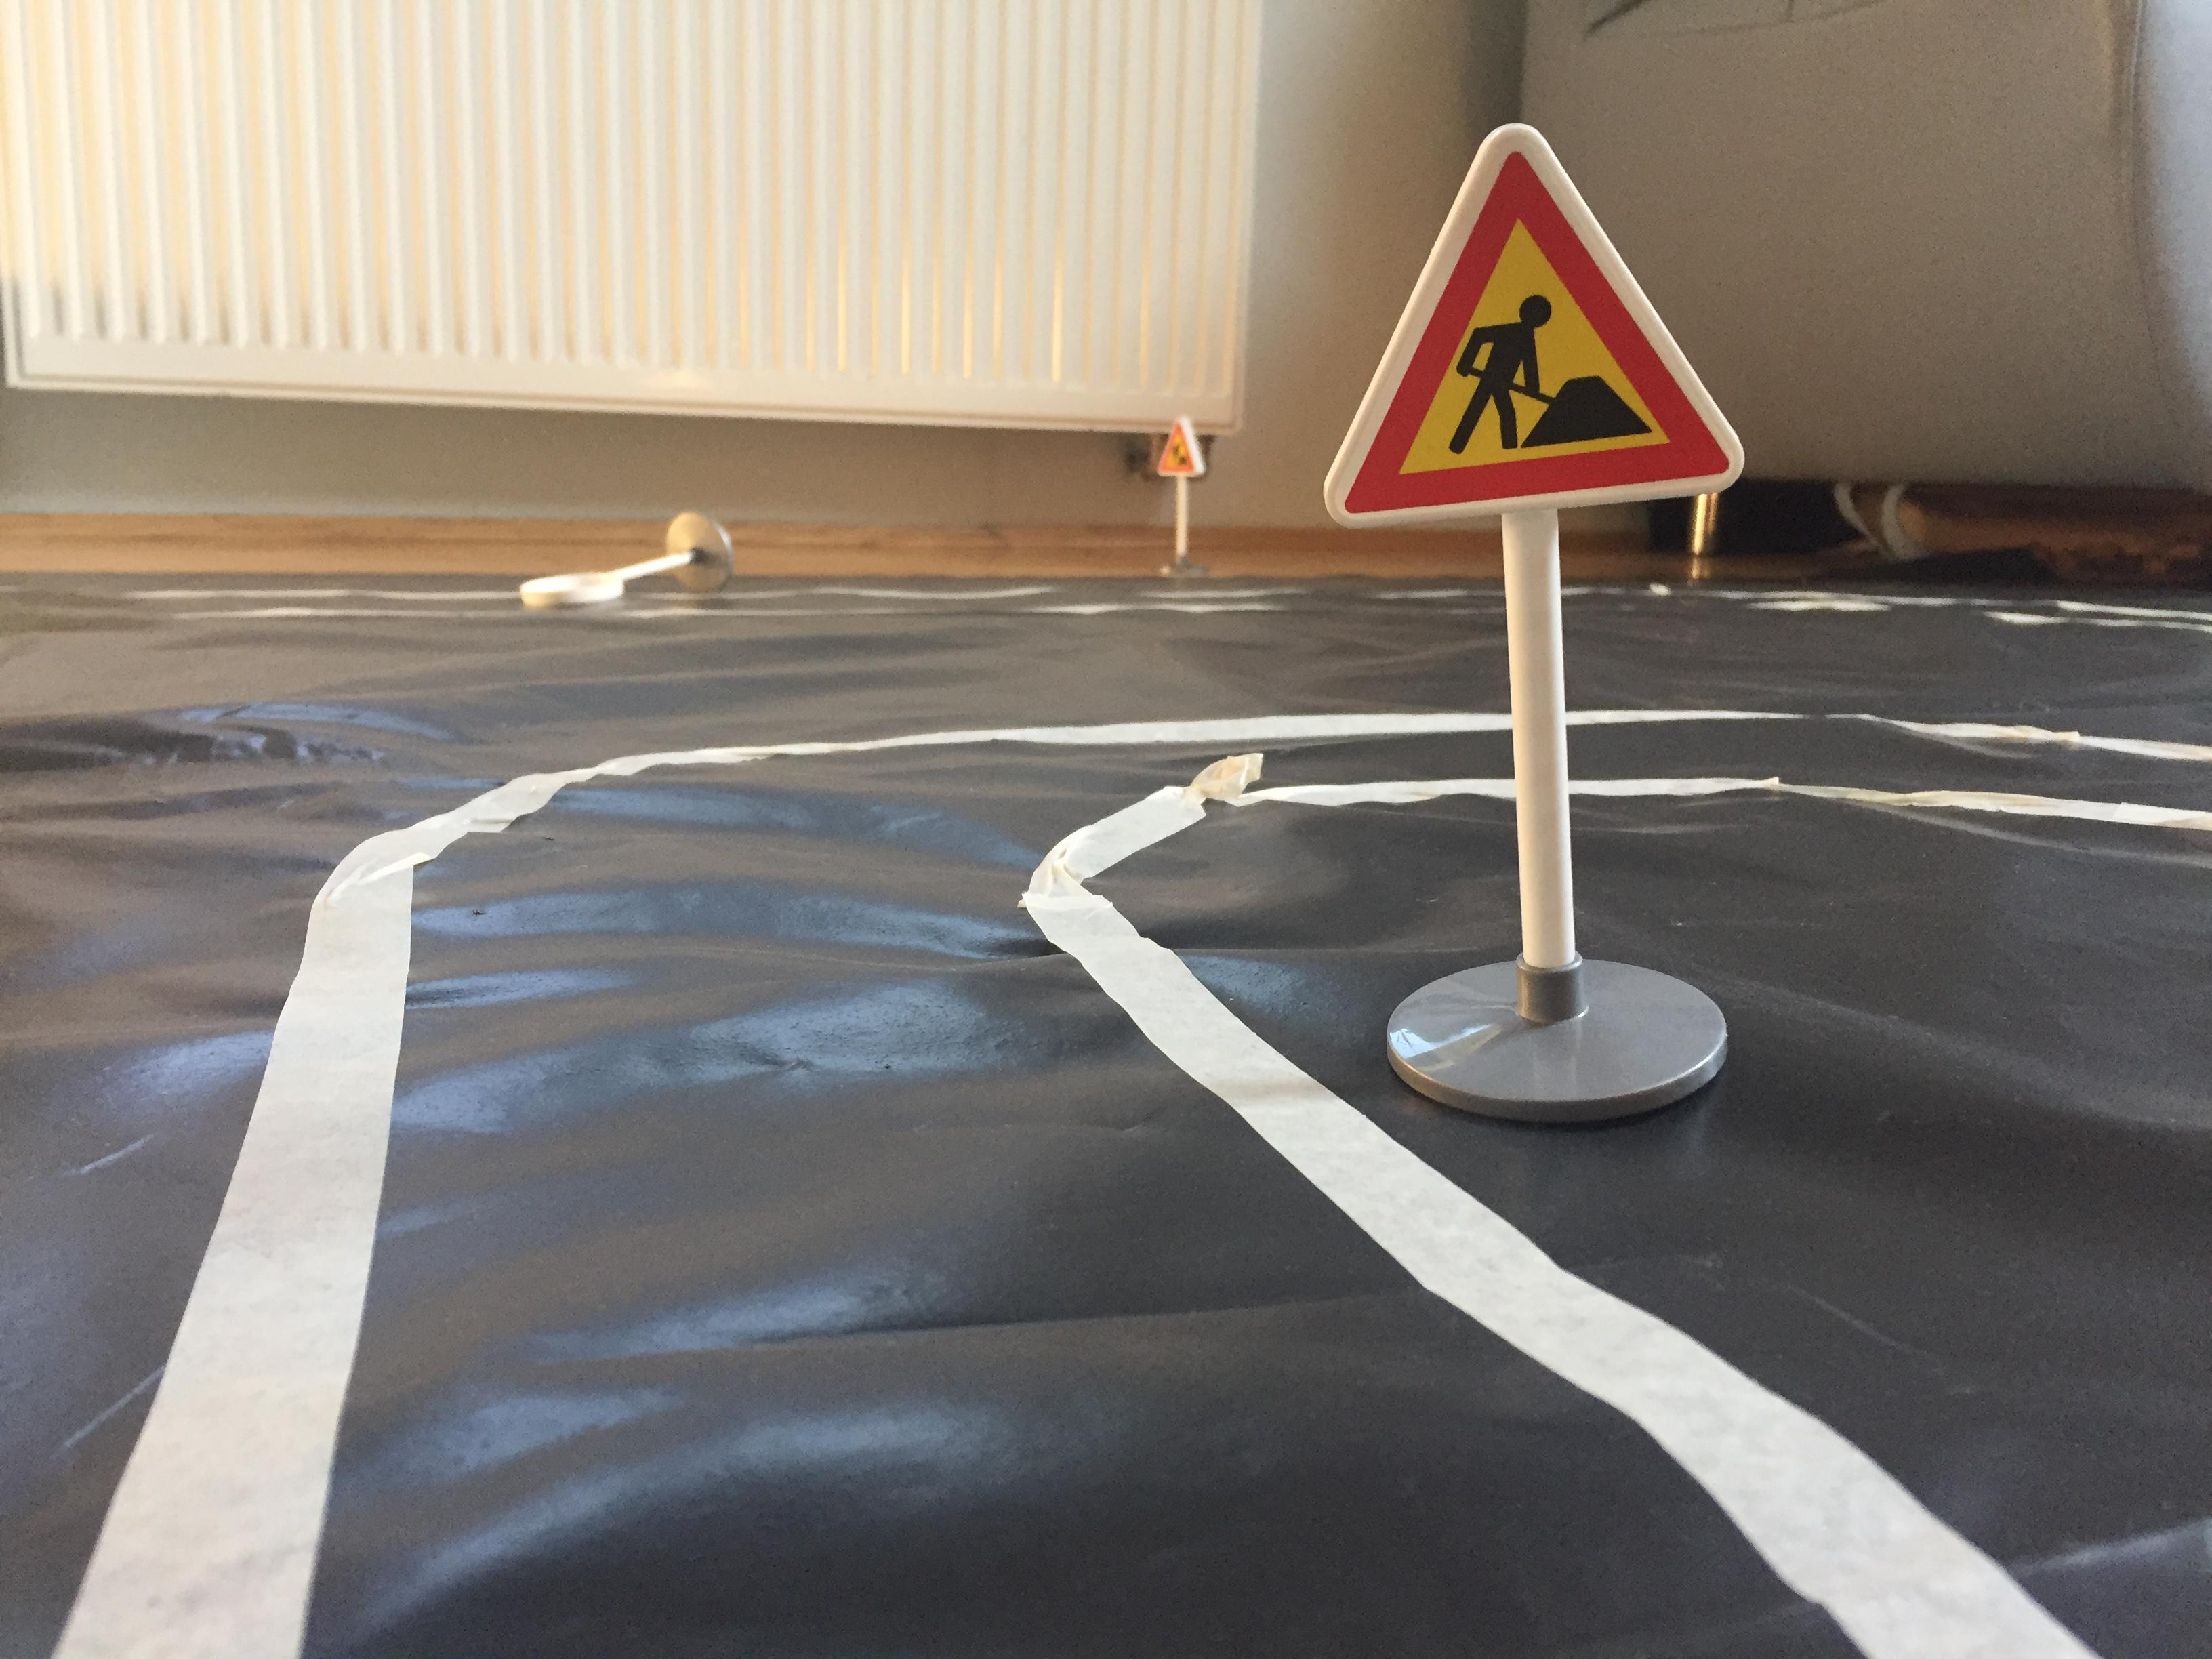work: (1296, 91, 1780, 542)
